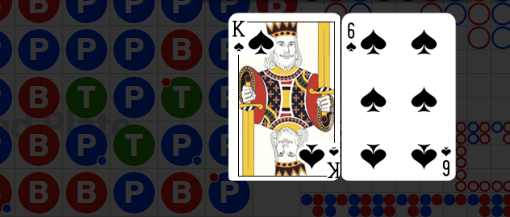6S: (439, 144, 452, 177)
KS: (230, 19, 246, 55)
